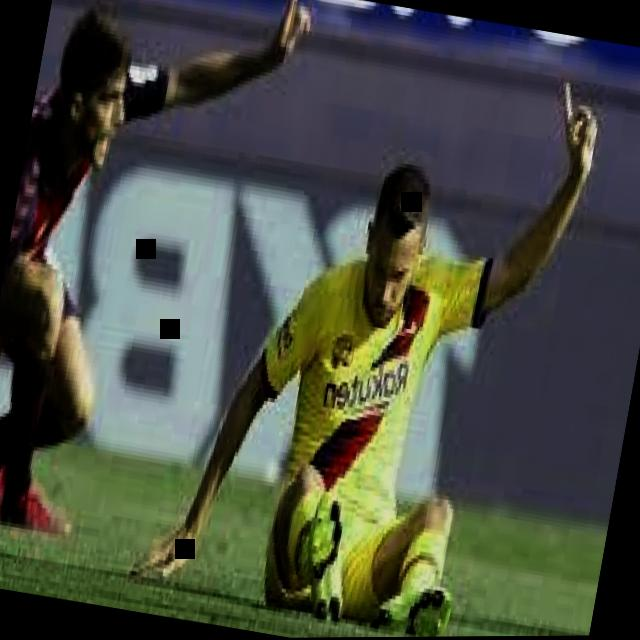Fall-Detected: (109, 14, 630, 622)
